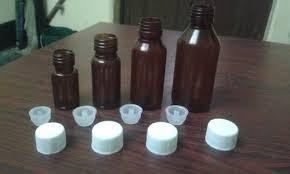Container for household chemicals: (38, 7, 242, 104)
